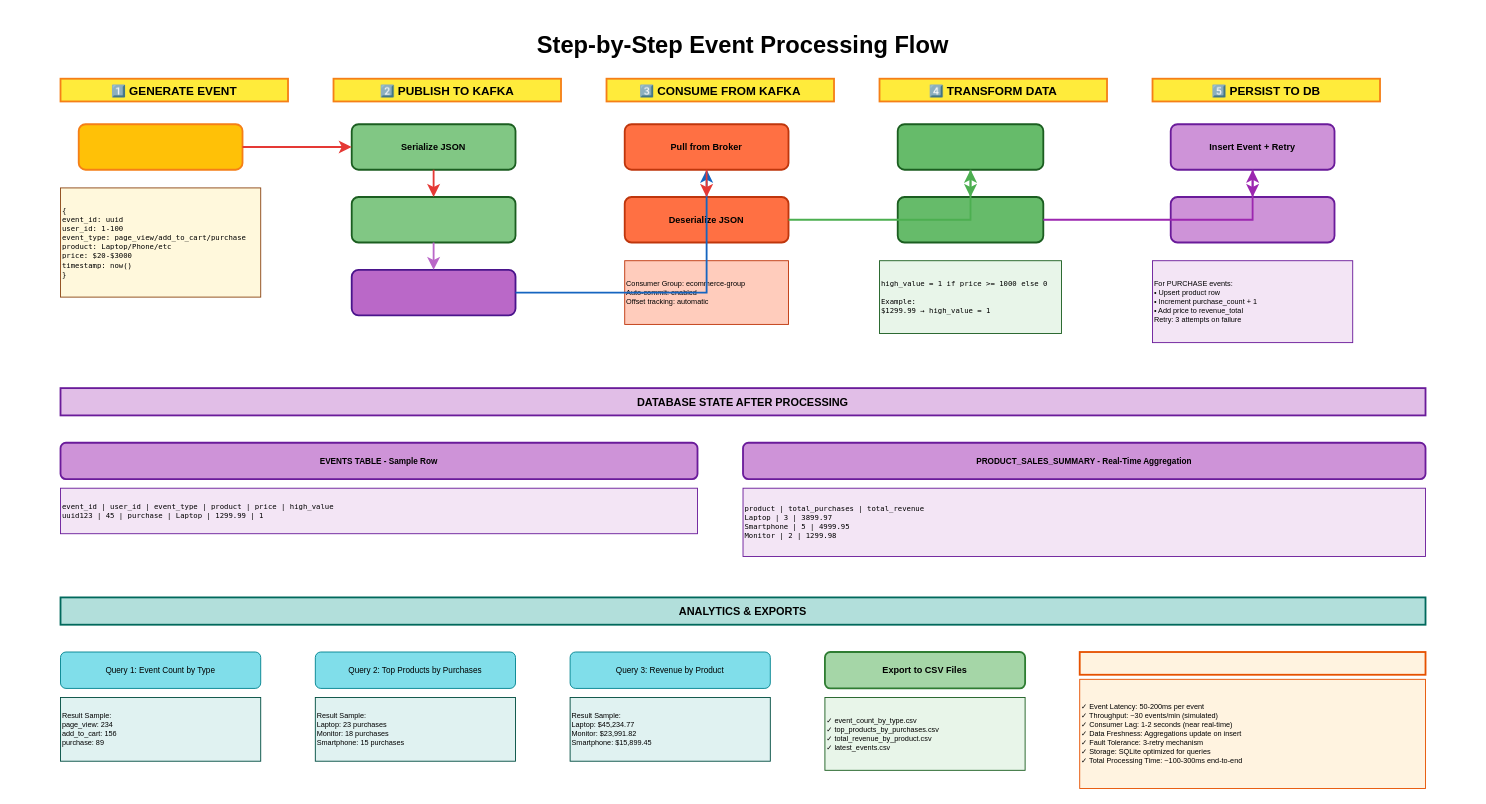
Image size: 1486x804. Some labels were removed from this diagram. Here are the shapes that lost their labels. From the top down, the centre of each, then its label:
At (x=160, y=146): "Random Event Object".
At (x=970, y=146): "Validate Event".
At (x=433, y=219): "Publish Topic: ecommerce-events".
At (x=970, y=219): "Enrich: high_value flag".
At (x=1252, y=219): "Update Product Summary".
At (x=433, y=292): "Redpanda Broker Buffer".
At (x=1252, y=663): "⚡ Performance Metrics".
